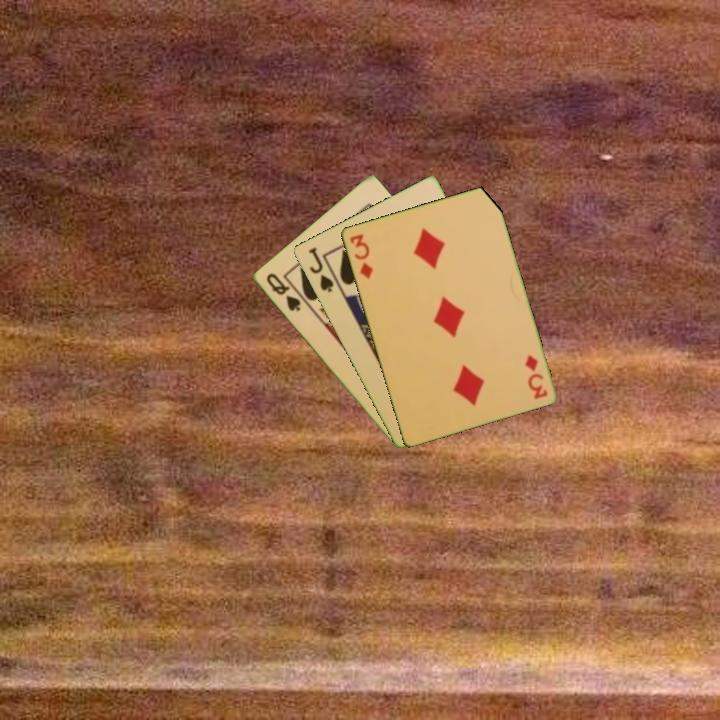3d: (346, 230, 376, 282), (521, 351, 550, 402)
Js: (305, 244, 336, 295)
Qs: (262, 269, 303, 314)
